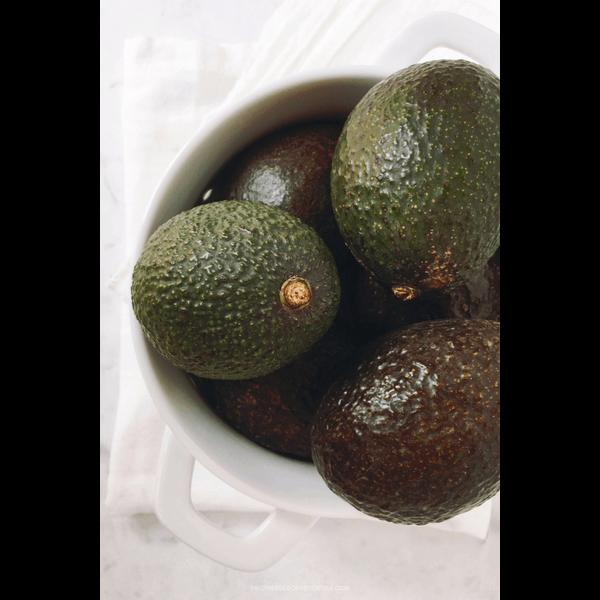almost: (331, 59, 499, 300), (131, 201, 342, 379)
ripe: (310, 318, 499, 526)
